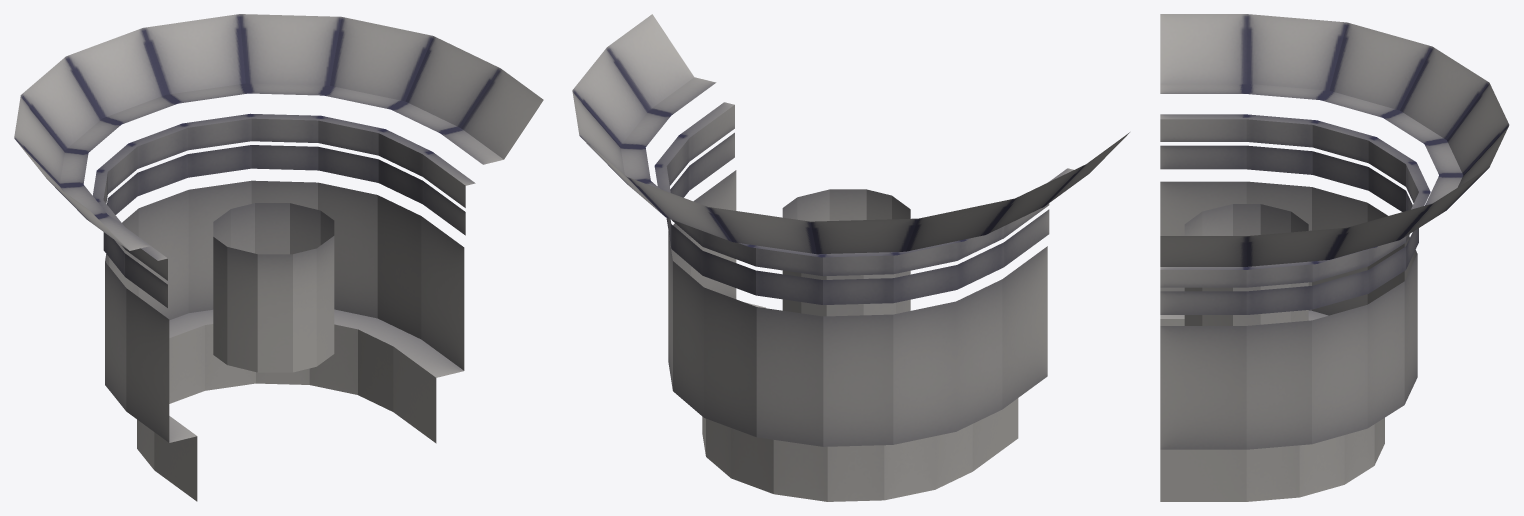
The model's file is Wall_03.FBX.
The picture shows the model from 3 angles, left to right: view 1: azimuth 30°, elevation 25°; view 2: azimuth 150°, elevation 25°; view 3: azimuth 270°, elevation 25°; orthographic projection. The views are drawn at different scales.
Visible parts, largest first — view 1: Wall_03; view 2: Wall_03; view 3: Wall_03.
Boxes of the visible parts, box(x1,y1,x2,y2) form: Wall_03: box(14, 14, 543, 501); Wall_03: box(572, 14, 1129, 501); Wall_03: box(1160, 14, 1509, 501).
Bounding box in the file's own units: 72.53 × 48.49 × 48.16.
